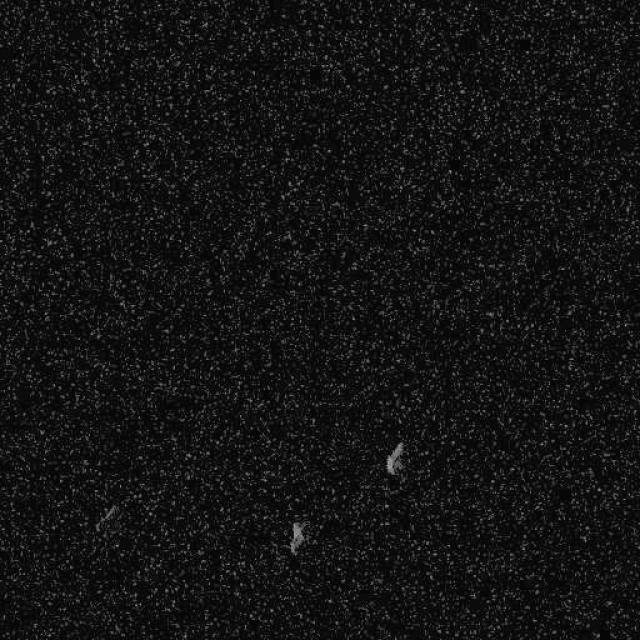D2: (94, 501, 120, 534), (384, 440, 405, 476), (289, 520, 306, 554)
